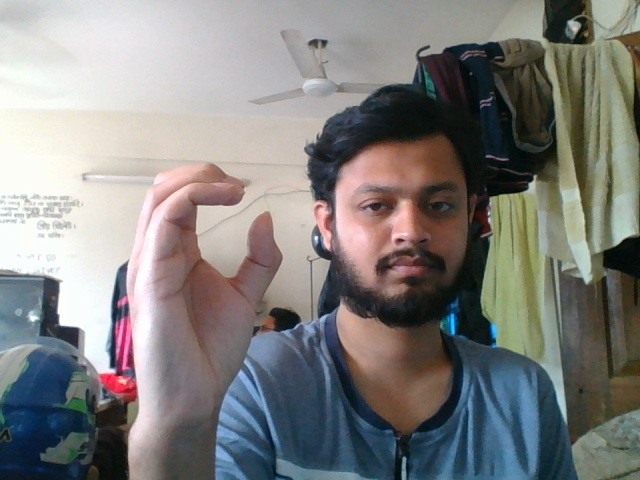ka: (117, 157, 297, 409)
